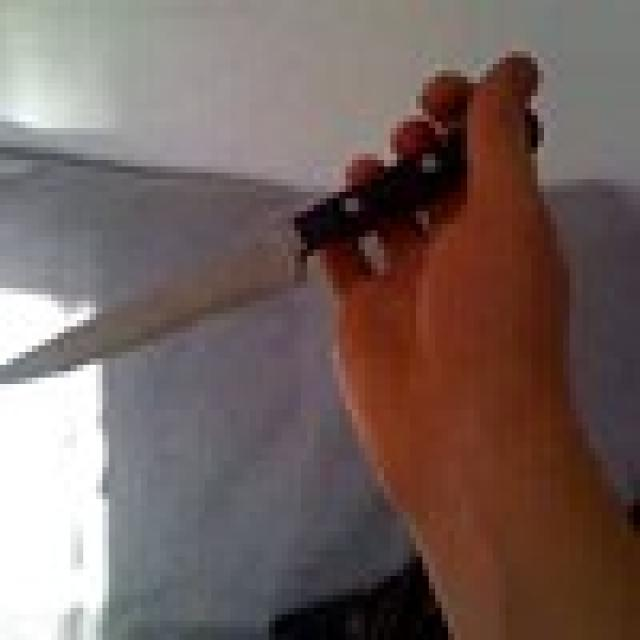Knife_Handle: (0, 51, 576, 397)
